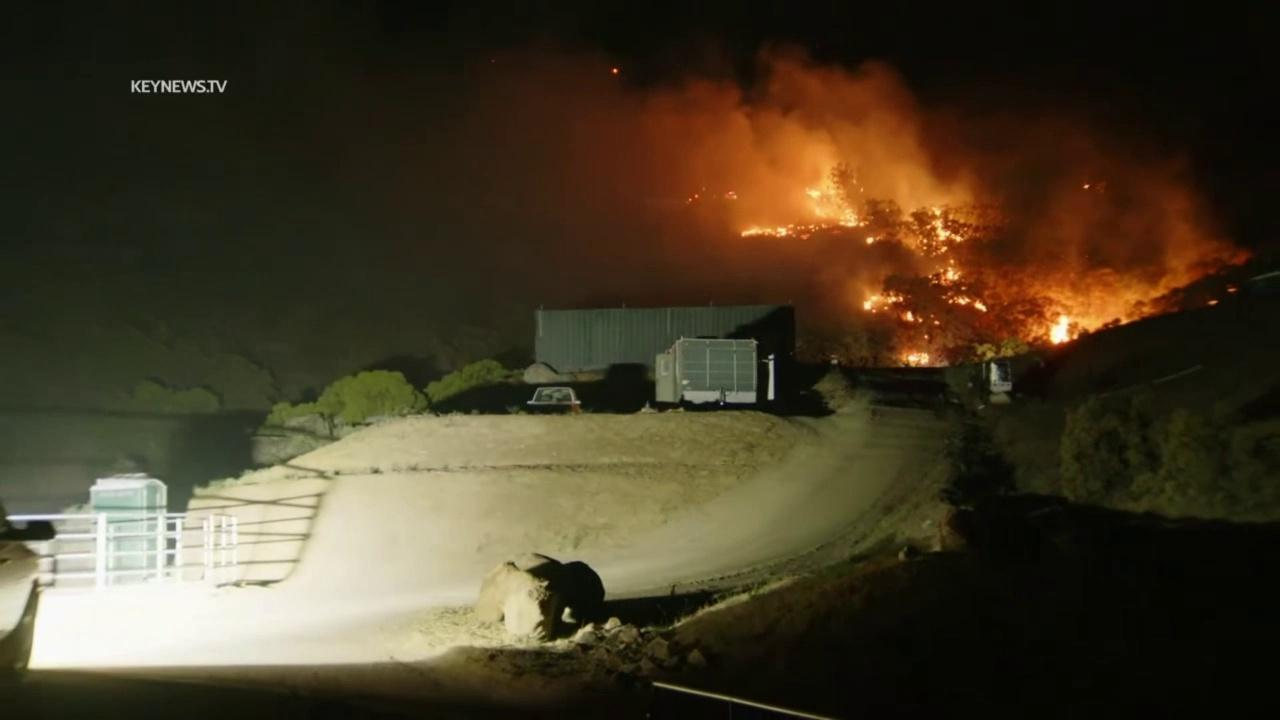fire: (805, 186, 871, 233), (917, 207, 965, 256), (739, 223, 797, 241), (931, 258, 963, 287), (862, 293, 904, 313), (1048, 314, 1074, 344), (898, 350, 930, 368), (948, 295, 972, 306), (974, 298, 990, 314), (905, 309, 915, 324), (725, 190, 738, 200), (865, 235, 876, 246), (1206, 298, 1219, 305), (1226, 285, 1237, 293), (1082, 184, 1091, 190), (934, 320, 941, 327), (924, 334, 931, 341), (919, 318, 925, 324), (611, 68, 618, 73)
smoke: (342, 32, 1255, 327)
